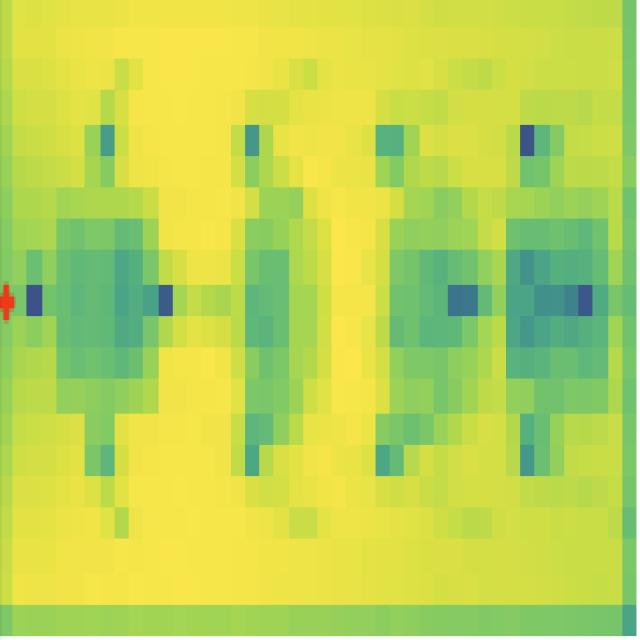Concrete: (54, 186, 159, 417)
Glass: (504, 215, 611, 417)
Metal: (233, 212, 318, 485)
Wood: (372, 177, 489, 443)
